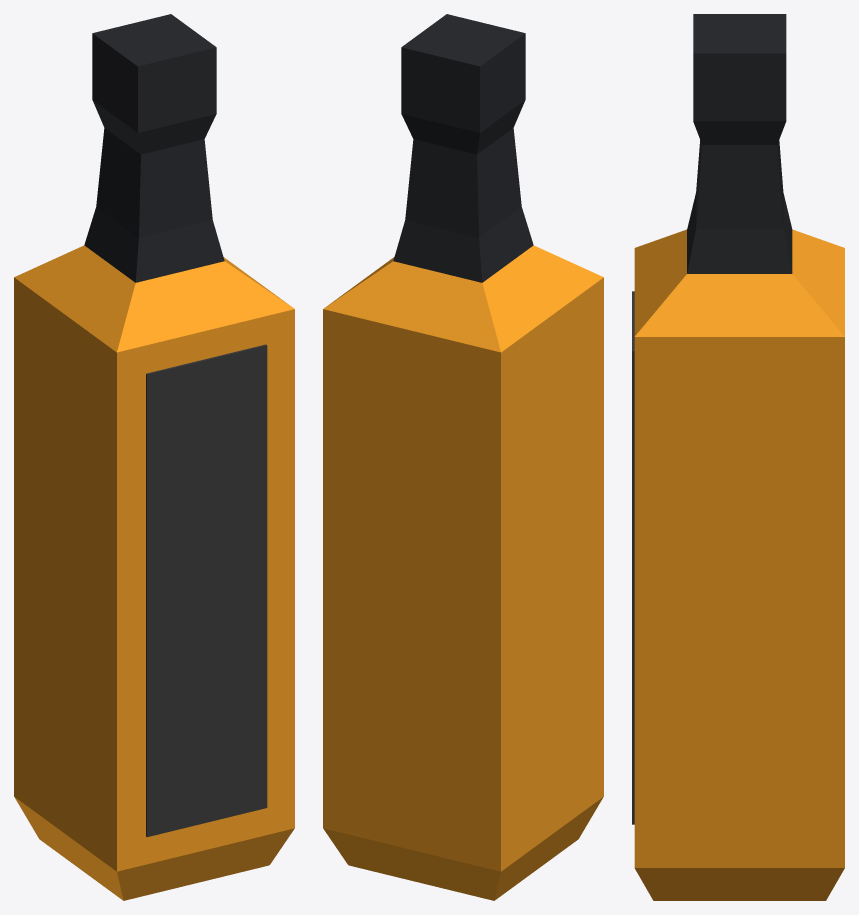
The model's file is Bottle_1.fbx.
3 renders of one model, left to right at view 1: azimuth 30°, elevation 25°; view 2: azimuth 150°, elevation 25°; view 3: azimuth 270°, elevation 25°, orthographic. The views are drawn at different scales.
Visible parts, largest first — view 1: Bottle_1; view 2: Bottle_1; view 3: Bottle_1.
Boxes of the visible parts, x1,y1,x2,y2 form: Bottle_1: (14,14,294,900); Bottle_1: (323,14,603,900); Bottle_1: (632,14,844,900).
Bounding box in the file's own units: 10.81 × 47.12 × 10.94.
